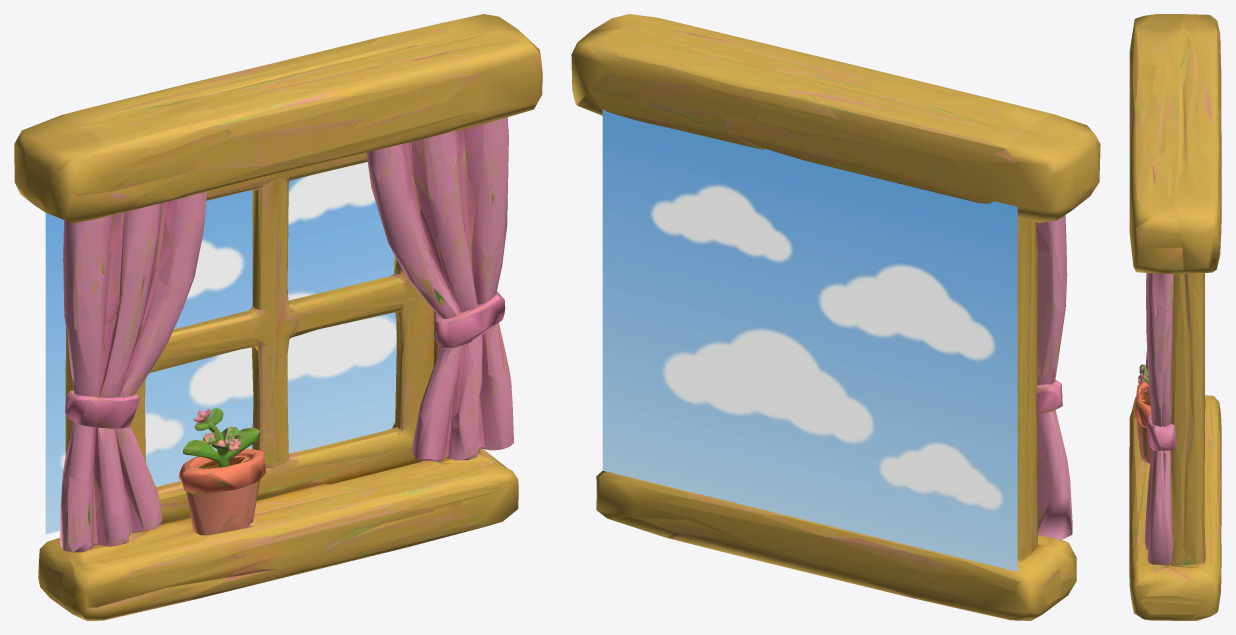
Rendered from window.glb.
3 renders of one model, left to right at view 1: azimuth 30°, elevation 25°; view 2: azimuth 150°, elevation 25°; view 3: azimuth 270°, elevation 25°, orthographic. The views are drawn at different scales.
Parts seen in each view (by area): view 1: window; view 2: window; view 3: window.
Part boxes in pixels (box(x1,y1,x2,y2)): window: box(14, 14, 542, 620); window: box(571, 14, 1100, 620); window: box(1129, 14, 1221, 620).
Size of the model in its own units: 1.3 by 1.21 by 0.2399.
2 materials, 2 textured.
